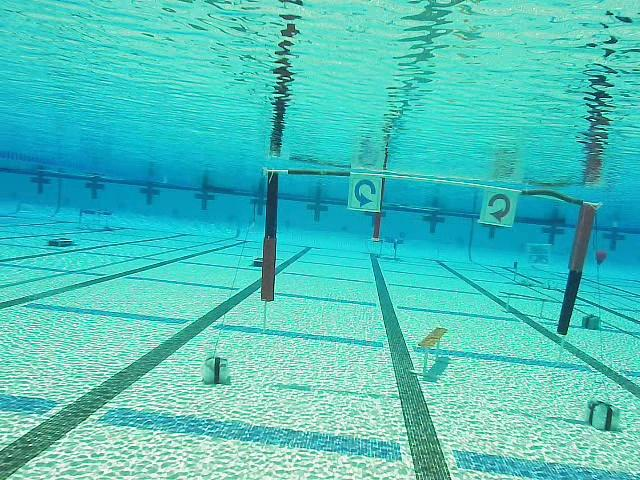buoy: (597, 248, 607, 268)
dropper: (44, 235, 75, 252)
gate: (260, 167, 597, 337)
gate_blue: (349, 176, 381, 212)
gate_leg_l: (260, 168, 280, 303)
gate_leg_r: (556, 200, 598, 336)
gate_red: (482, 190, 517, 228)
table: (76, 206, 114, 233)
torpedo: (525, 243, 551, 267)
